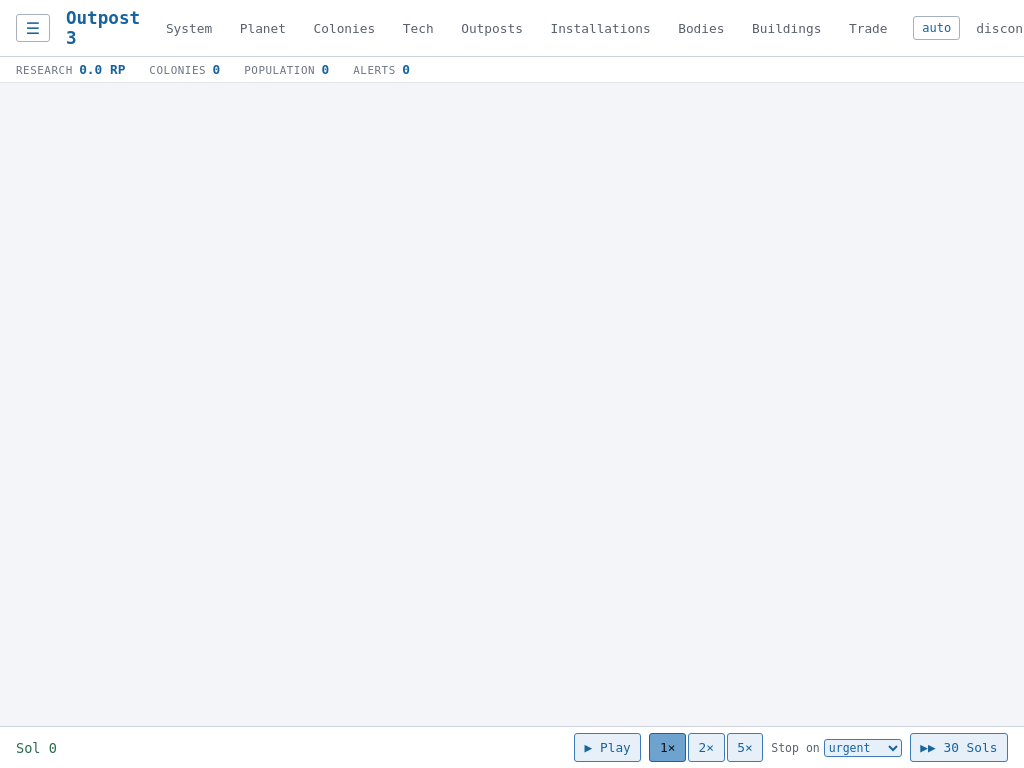
it: App.vue balance-tuning access (issue #364) › surfaces balance tuning as a Dev Tools toggle inside the menu instead
Step 1. Click the button with test id "app-menu-btn" → coordinates (33, 28), box [16,14,50,42]
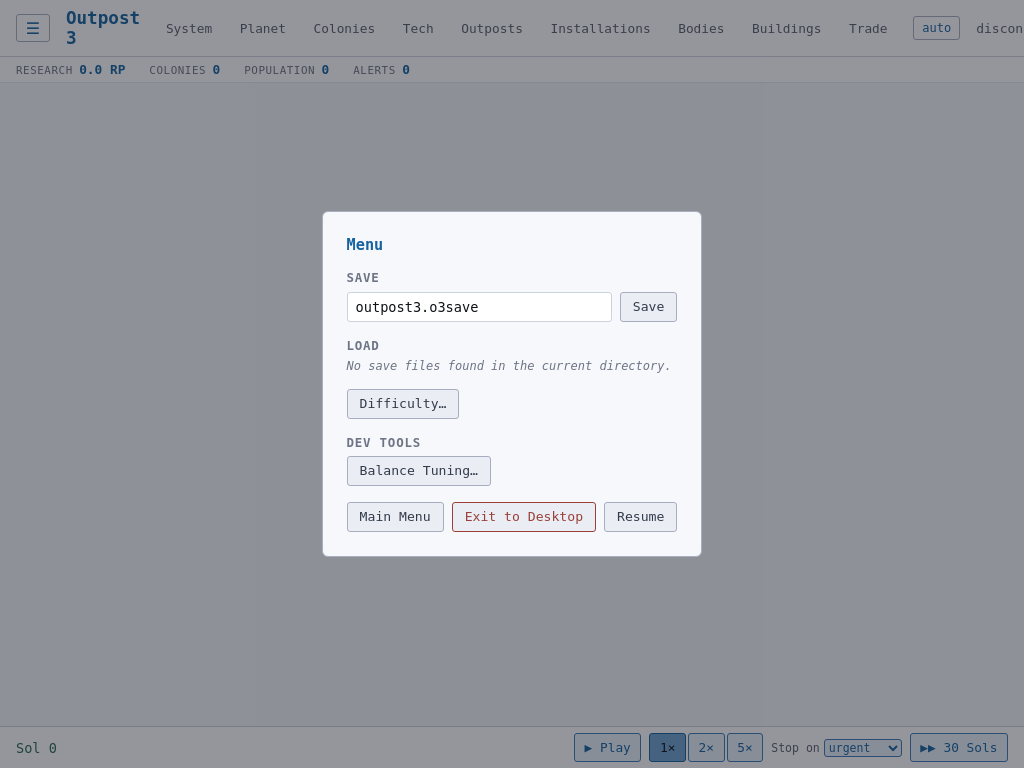
Now the element with test id "app-menu-dialog" is shown, box [322,211,702,557]
Now the button with test id "btn-balance" is shown
Step 2. Click the button with test id "btn-balance" → coordinates (419, 471), box [347,456,491,486]
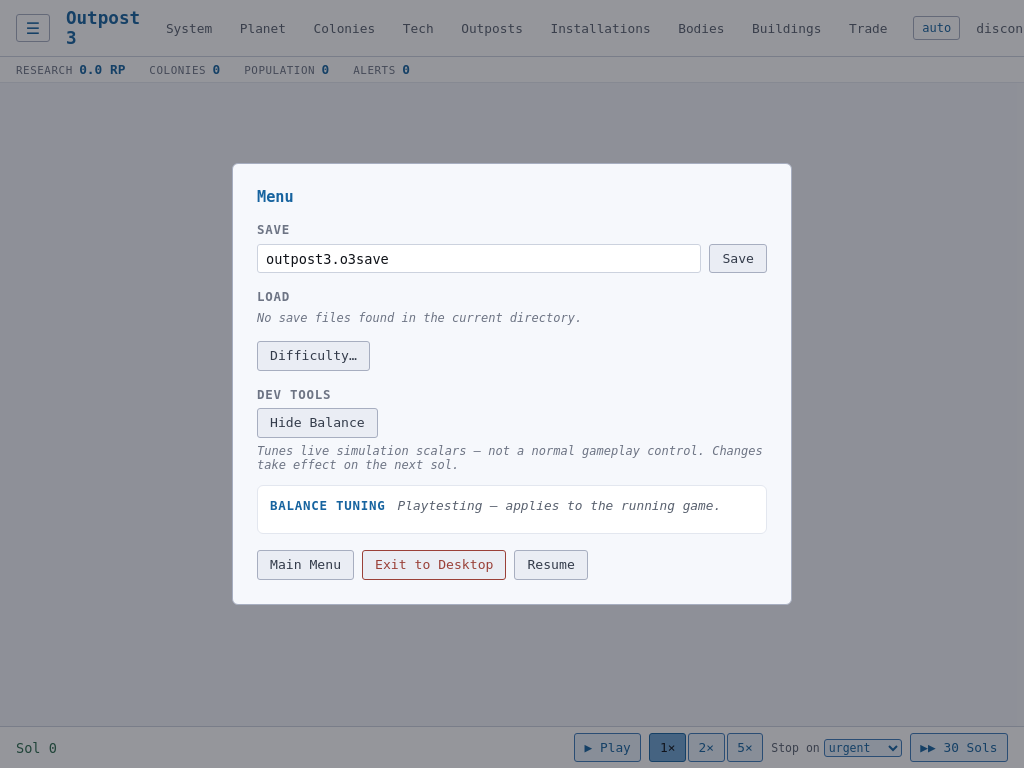
Now the element showing "Balance tuning Playtesting — applies to the running game." is shown, box [257,485,767,534]
